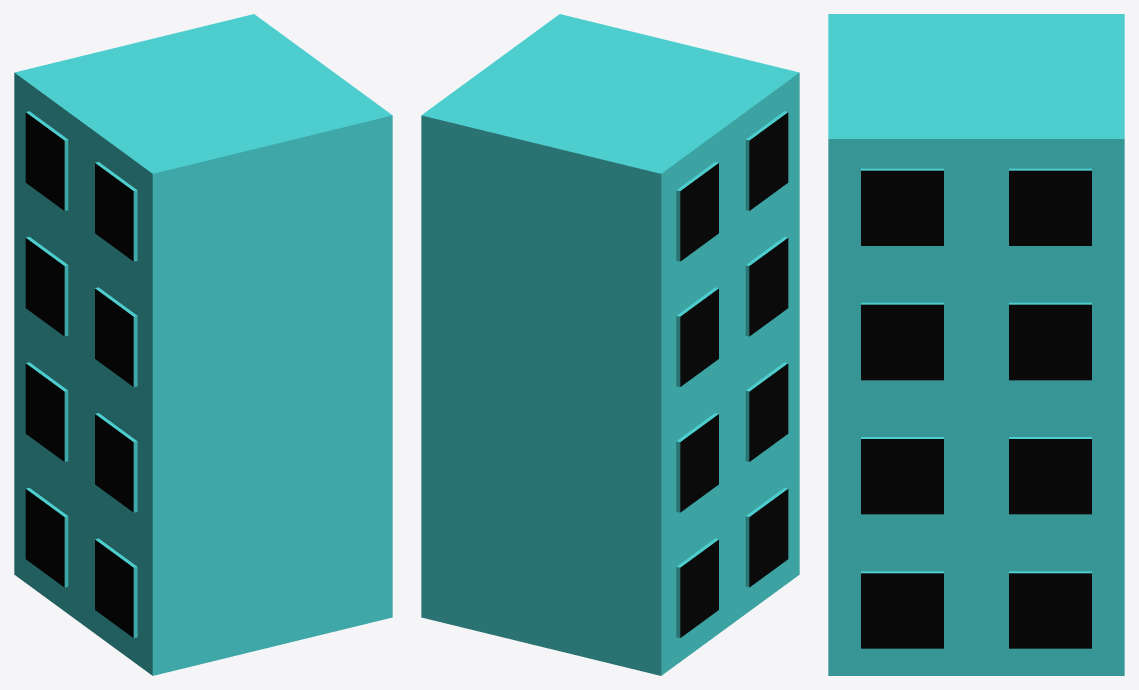
The model's file is building1.glb.
3 views of the same model, side by side, from view 1: azimuth 30°, elevation 25°; view 2: azimuth 150°, elevation 25°; view 3: azimuth 270°, elevation 25° (orthographic). The views are drawn at different scales.
Parts seen in each view (by area): view 1: Cube; view 2: Cube; view 3: Cube.
Boxes of the visible parts, x1,y1,x2,y2 form: Cube: [14, 14, 392, 675]; Cube: [421, 14, 799, 675]; Cube: [828, 14, 1124, 675].
Size of the model in its own units: 2.06 by 4 by 2.
